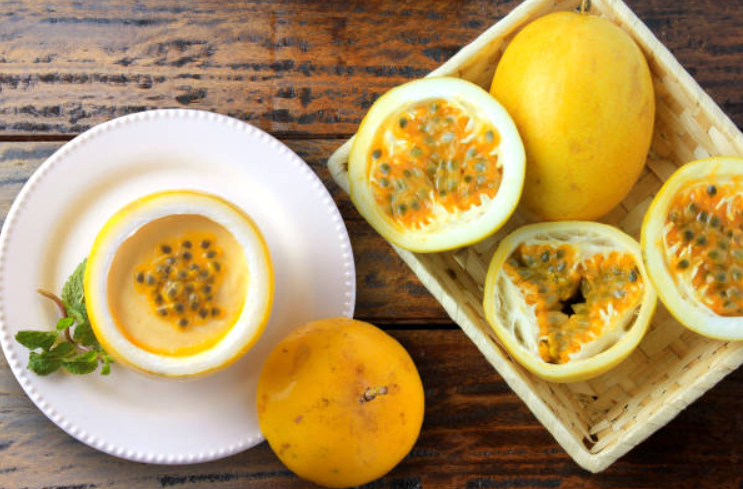maracuya: (487, 12, 657, 231), (255, 313, 441, 488)
